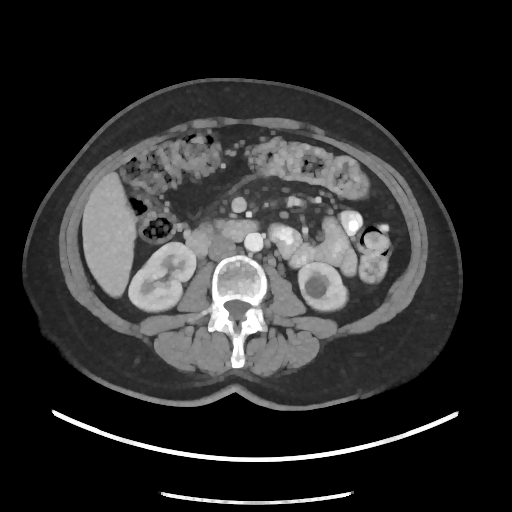Lesion: (302, 273, 331, 302)
